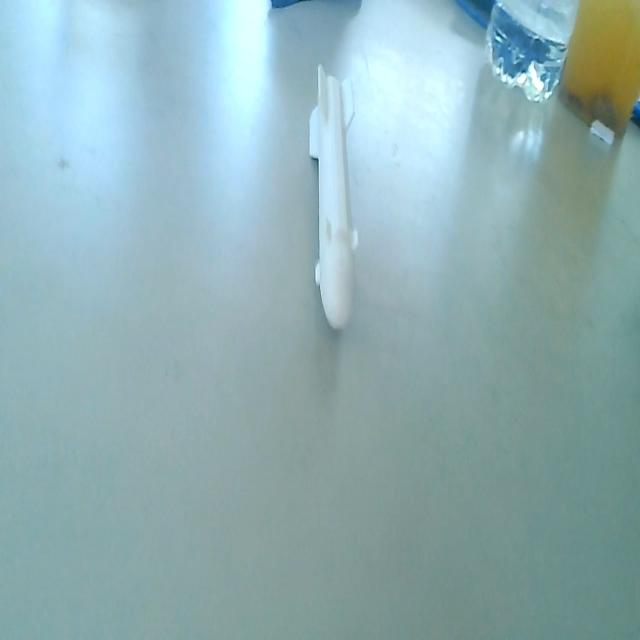Rocket: (307, 64, 361, 338)
